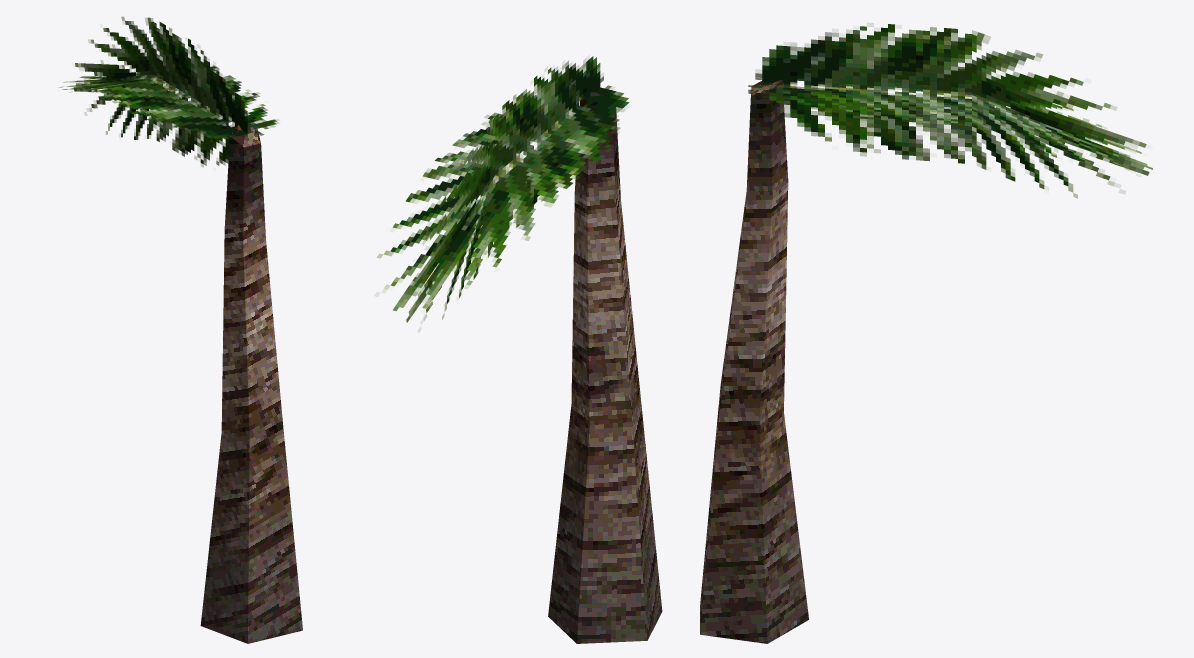
File: palm.glb
3 views of the same model, side by side, from view 1: azimuth 30°, elevation 25°; view 2: azimuth 150°, elevation 25°; view 3: azimuth 270°, elevation 25° (orthographic). The views are drawn at different scales.
Visible parts, largest first — view 1: Cube, Plane; view 2: Cube, Plane; view 3: Cube, Plane.
Part boxes in pixels (box(x1,y1,x2,y2)): Cube: box(200, 125, 302, 643); Plane: box(59, 16, 278, 167); Cube: box(548, 92, 662, 643); Plane: box(375, 56, 629, 331); Cube: box(700, 79, 808, 643); Plane: box(748, 23, 1152, 198).
Bounding box in the file's own units: 3.51 × 15.81 × 11.35.
Materials: 2 (2 with a texture image).
